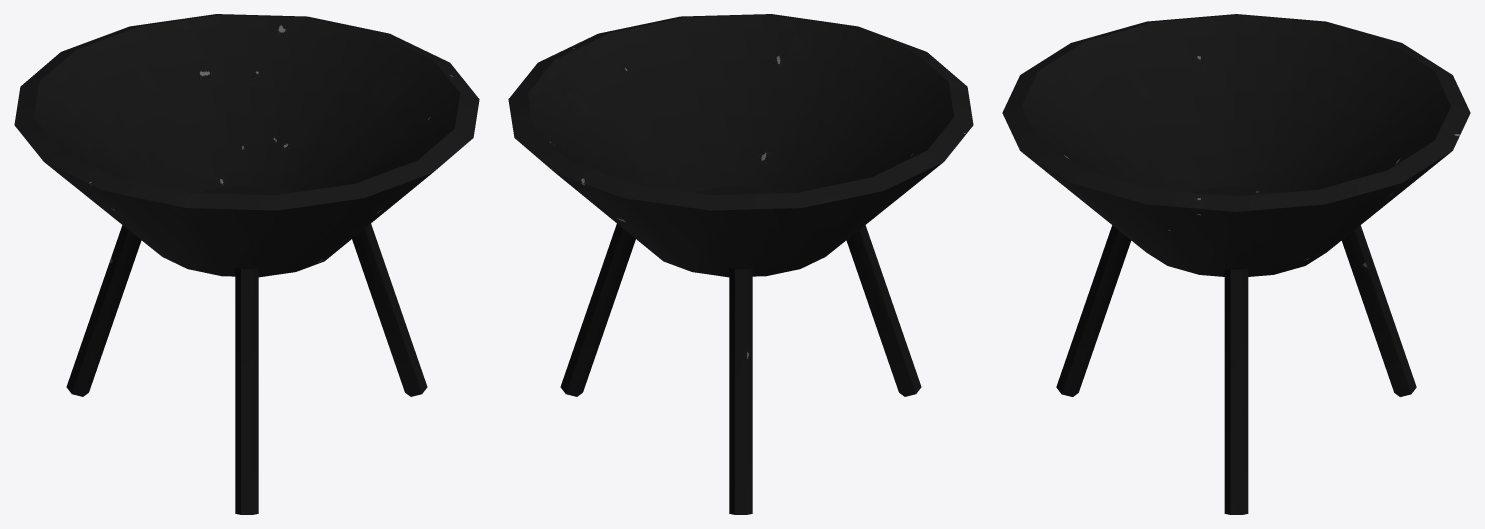
File: brazier.glb
3 renders of one model, left to right at view 1: azimuth 30°, elevation 25°; view 2: azimuth 150°, elevation 25°; view 3: azimuth 270°, elevation 25°, orthographic.
Parts seen in each view (by area): view 1: boat_iron; view 2: boat_iron; view 3: boat_iron.
Part boxes in pixels (x1,y1,x2,y2): boat_iron: [14, 14, 479, 514]; boat_iron: [508, 14, 973, 514]; boat_iron: [1002, 14, 1470, 514].
Bounding box in the file's own units: 1.2 × 0.9282 × 1.2.
1 material, 1 textured.
